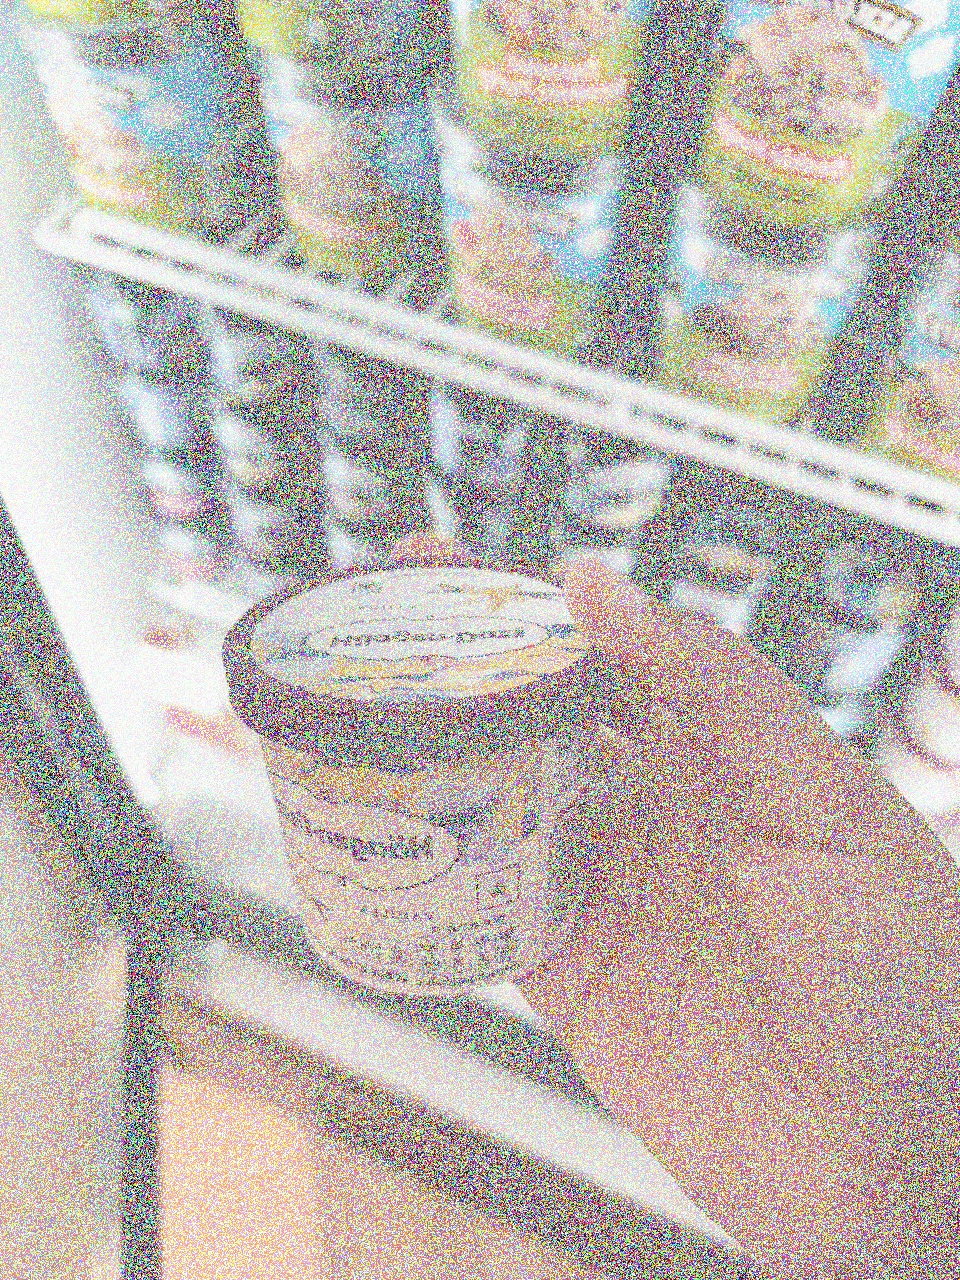Haagen-Dazs IceCream Tub: (210, 546, 643, 1021)
